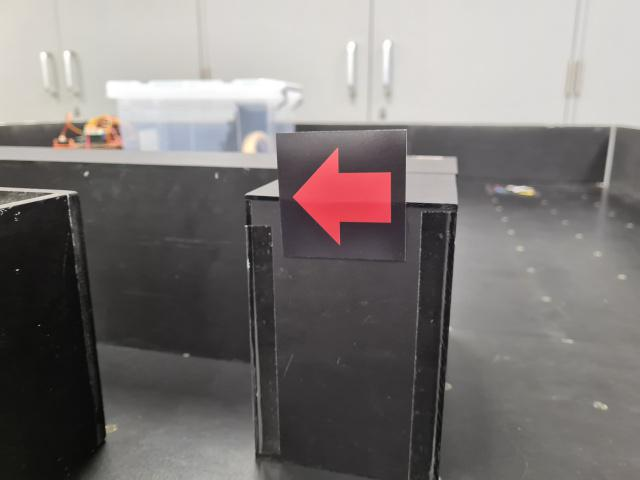left: (275, 129, 408, 262)
